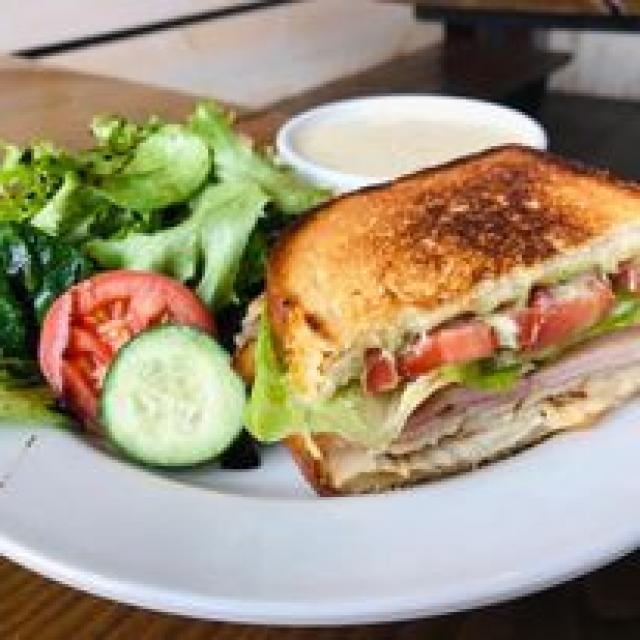Sandwich: (242, 144, 638, 502)
